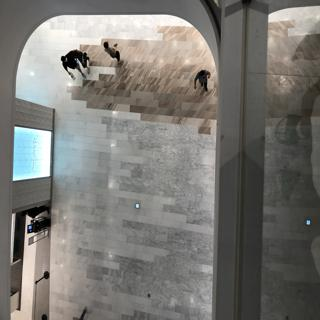person: (53, 48, 94, 83), (99, 35, 132, 66), (191, 61, 215, 96)
